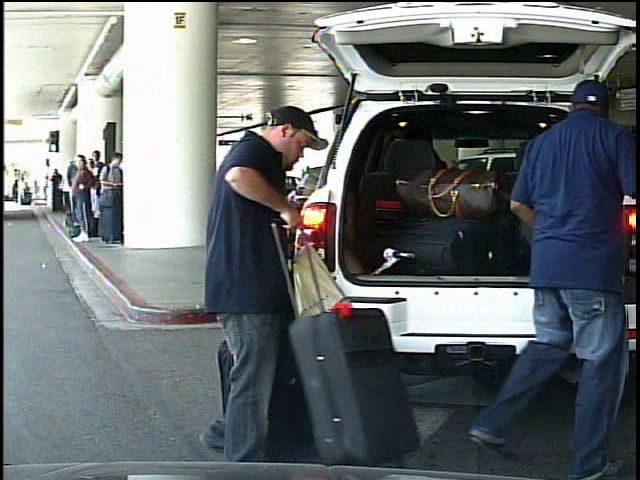person: (461, 78, 634, 480), (173, 95, 315, 463), (17, 176, 28, 206)
